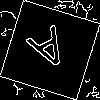A: (25, 25, 76, 81)
